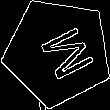M_SW: (25, 20, 91, 84)
